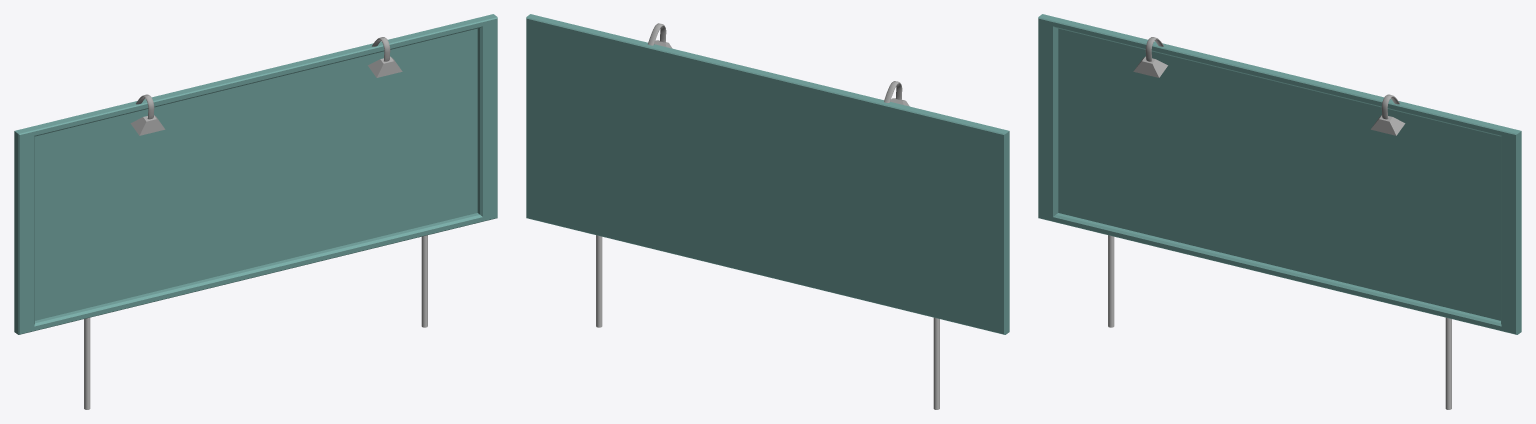
The model's file is Billboard_UV.fbx.
3 views of the same model, side by side, from view 1: azimuth 30°, elevation 25°; view 2: azimuth 150°, elevation 25°; view 3: azimuth 330°, elevation 25° (orthographic).
Visible parts, largest first — view 1: billboard_lights2; view 2: billboard_lights2; view 3: billboard_lights2.
Boxes of the visible parts, x1,y1,x2,y2 form: billboard_lights2: [14, 14, 497, 409]; billboard_lights2: [526, 14, 1009, 409]; billboard_lights2: [1038, 14, 1521, 409].
Bounding box in the file's own units: 1108 × 680 × 70.94.
